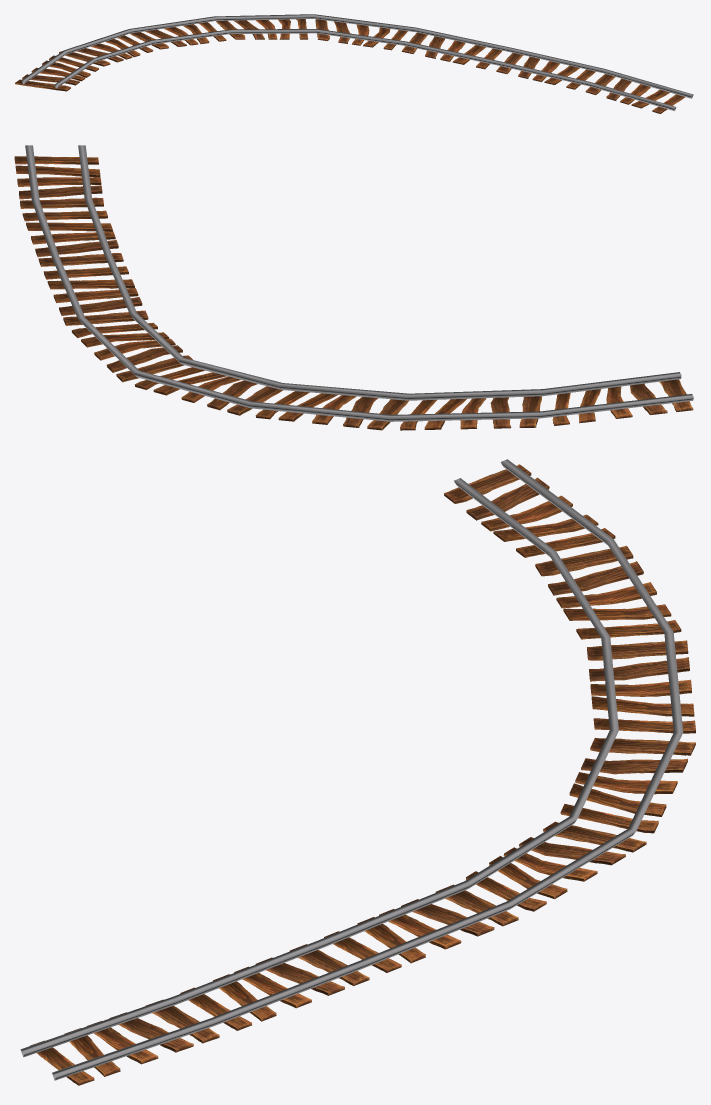
File: SWORDLIGHT20_TRACK11.fbx
3 renders of one model, top to bottom at view 1: azimuth 30°, elevation 25°; view 2: azimuth 150°, elevation 25°; view 3: azimuth 270°, elevation 25°, orthographic. The views are drawn at different scales.
Visible parts, largest first — view 1: SWORDLIGHT20_TRACK11; view 2: SWORDLIGHT20_TRACK11; view 3: SWORDLIGHT20_TRACK11.
Part boxes in pixels (<box>): SWORDLIGHT20_TRACK11: <box>15,14,693,113</box>; SWORDLIGHT20_TRACK11: <box>14,145,693,430</box>; SWORDLIGHT20_TRACK11: <box>20,459,695,1085</box>.
Bounding box in the file's own units: 195335 × 21852 × 109942.
Materials: 2 (2 with a texture image).
